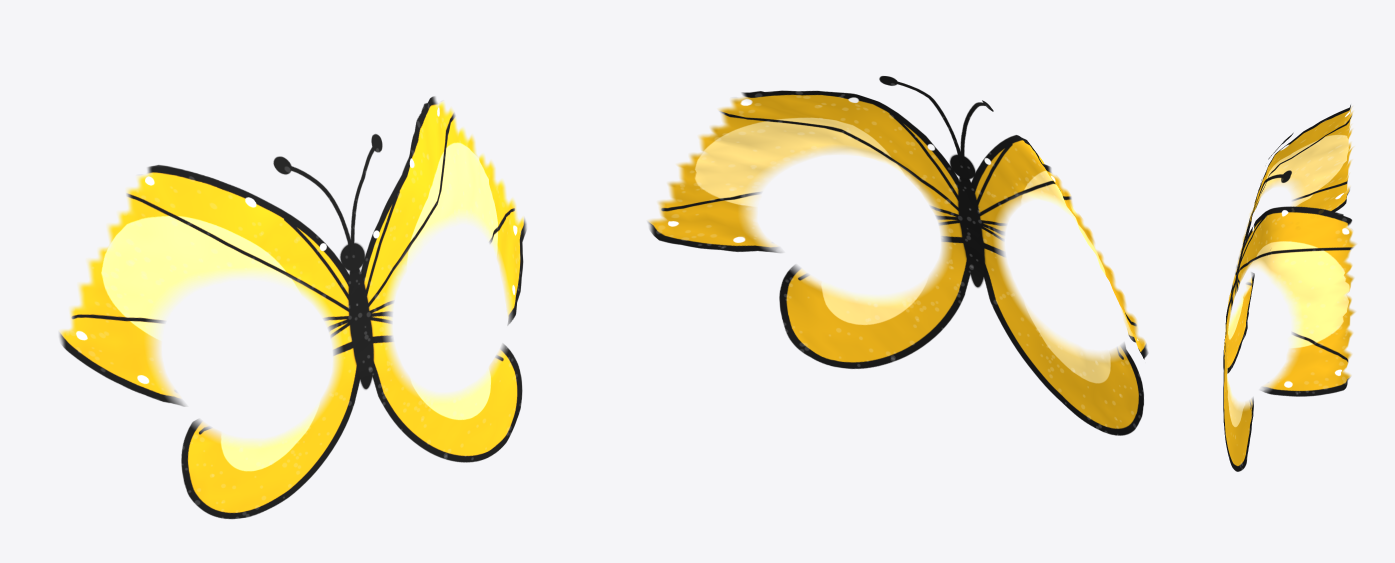
File: beamy-face-paint.glb
3 views of the same model, side by side, from view 1: azimuth 30°, elevation 25°; view 2: azimuth 150°, elevation 25°; view 3: azimuth 270°, elevation 25° (orthographic). The views are drawn at different scales.
Visible parts, largest first — view 1: BeamyFacePaint; view 2: BeamyFacePaint; view 3: BeamyFacePaint.
Part boxes in pixels (bbox=[...]): BeamyFacePaint: bbox=[59, 96, 526, 519]; BeamyFacePaint: bbox=[648, 76, 1147, 435]; BeamyFacePaint: bbox=[1223, 105, 1356, 471].
Bounding box in the file's own units: 0.54 × 0.37 × 0.1713.
1 material, 1 textured.
